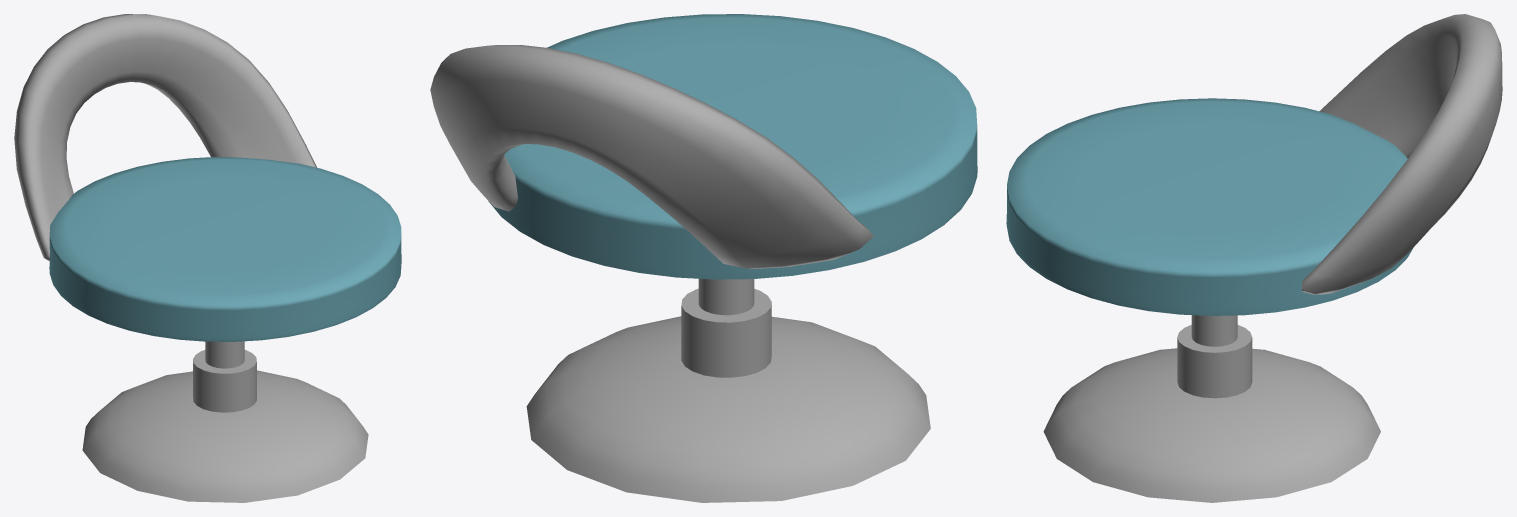
The model's file is Chair v2.fbx.
The picture shows the model from 3 angles, left to right: view 1: azimuth 30°, elevation 25°; view 2: azimuth 150°, elevation 25°; view 3: azimuth 270°, elevation 25°; orthographic projection. The views are drawn at different scales.
Parts seen in each view (by area): view 1: CHAIR_v2; view 2: CHAIR_v2; view 3: CHAIR_v2.
Part boxes in pixels (x1=…): CHAIR_v2: x1=14, y1=14, x2=401, y2=502; CHAIR_v2: x1=430, y1=14, x2=977, y2=502; CHAIR_v2: x1=1006, y1=14, x2=1502, y2=502.
Size of the model in its own units: 7.19 by 7.65 by 8.67.
